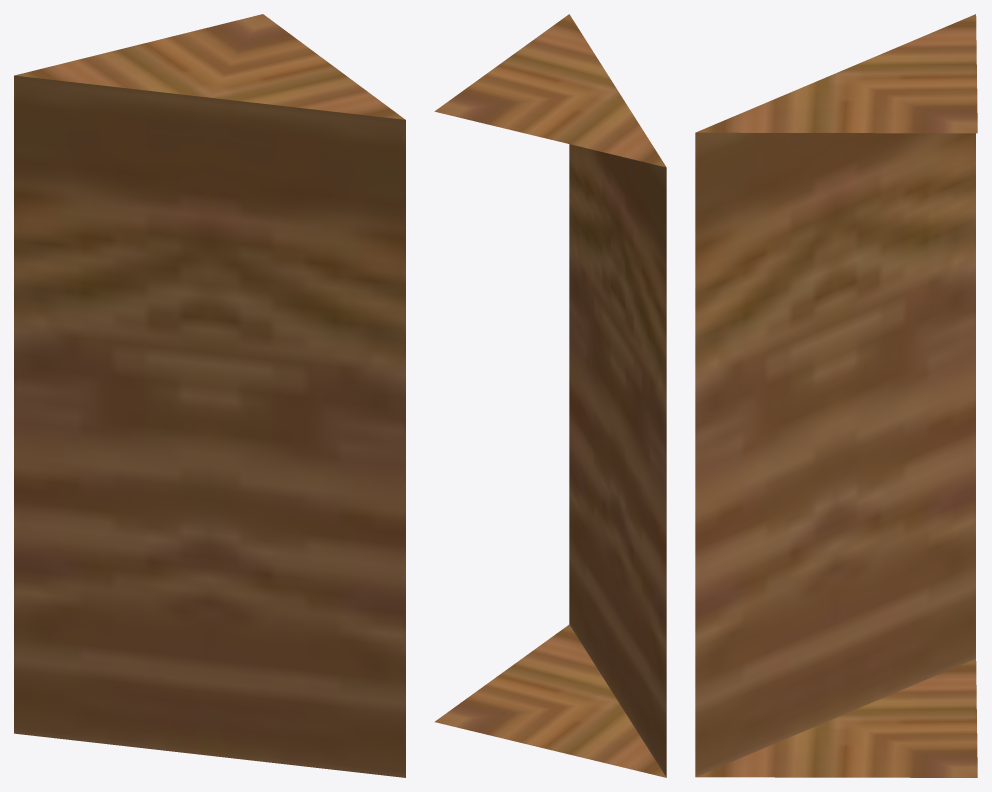
File: corner_exterior_toponly.glb
3 views of the same model, side by side, from view 1: azimuth 30°, elevation 25°; view 2: azimuth 150°, elevation 25°; view 3: azimuth 270°, elevation 25° (orthographic). The views are drawn at different scales.
Bounding box in the file's own units: 0.0928 × 0.2335 × 0.0928.
Materials: 1 (1 with a texture image).
